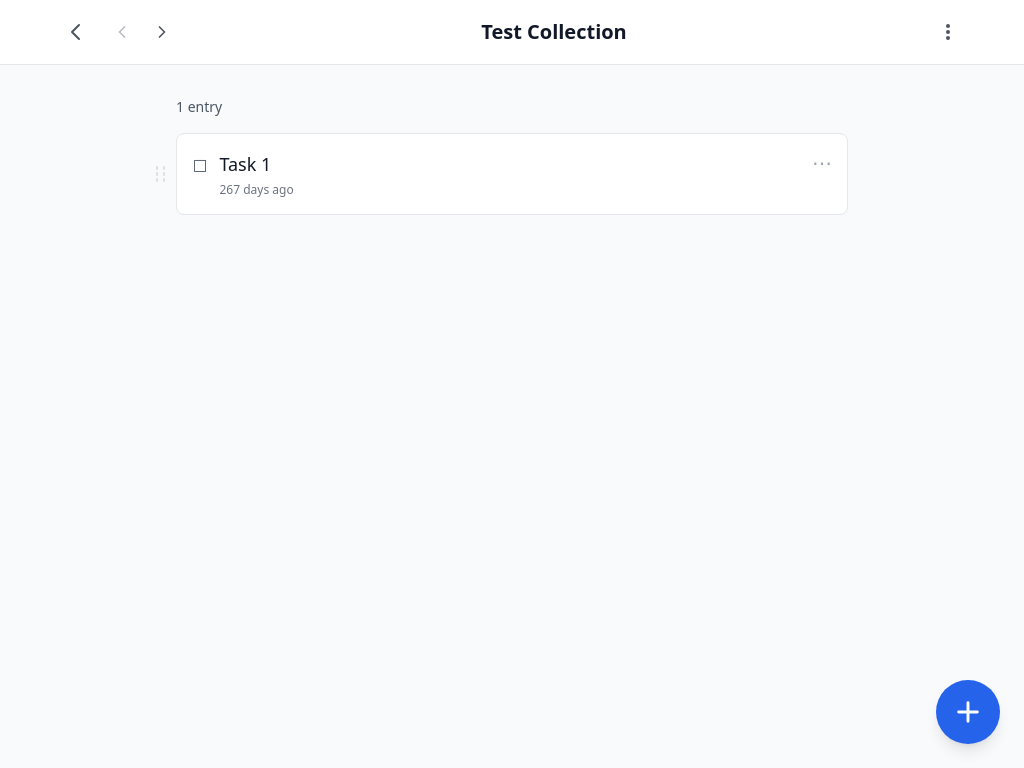
Test case: CollectionDetailView - Error Toast › should show an error toast when bulk migration fails
Expected: the link "Test Collection" is shown, [481,18,627,45]
// Enter selection mode via menu
Click the button named "collection menu". click: (948, 32)
box: [928,12,968,52]
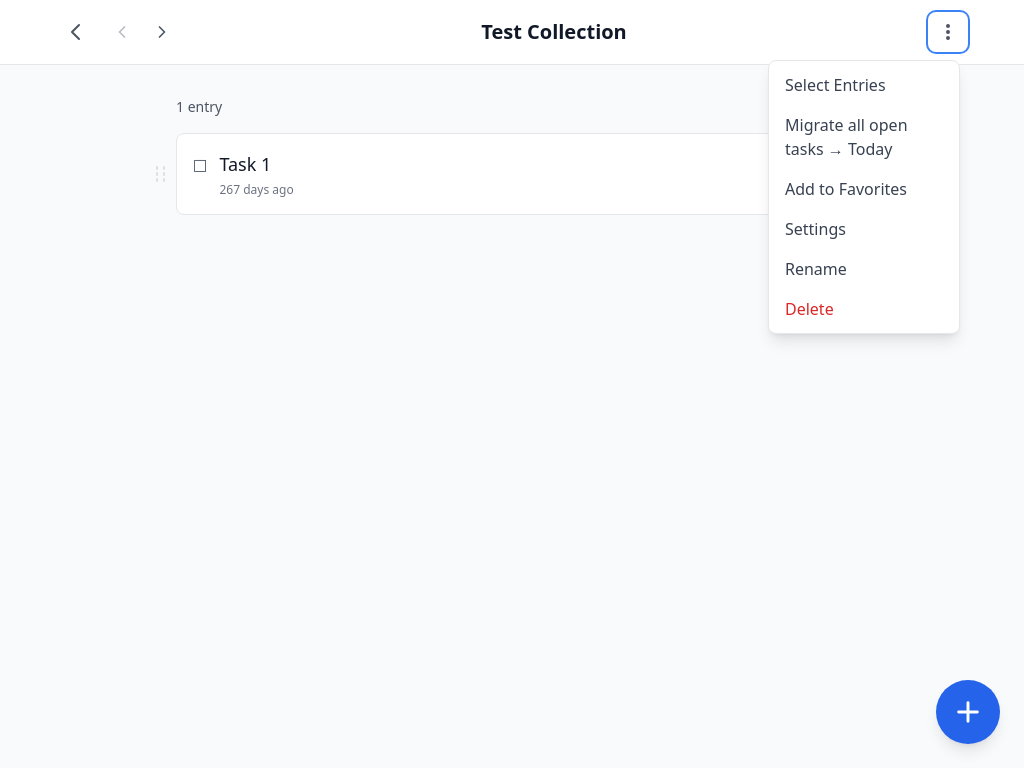
Click the button "Select Entries". click: (864, 85)
box: [769,65,959,105]
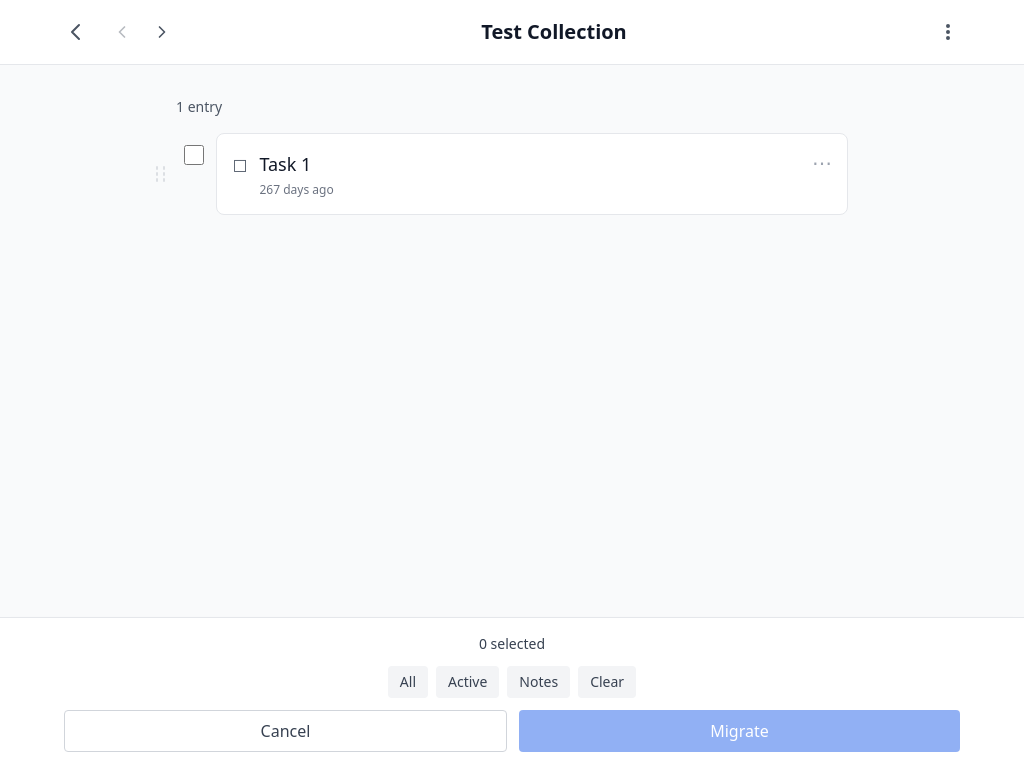
// Select all entries
Click the button "All". click: (408, 682)
box: [388,666,428,698]
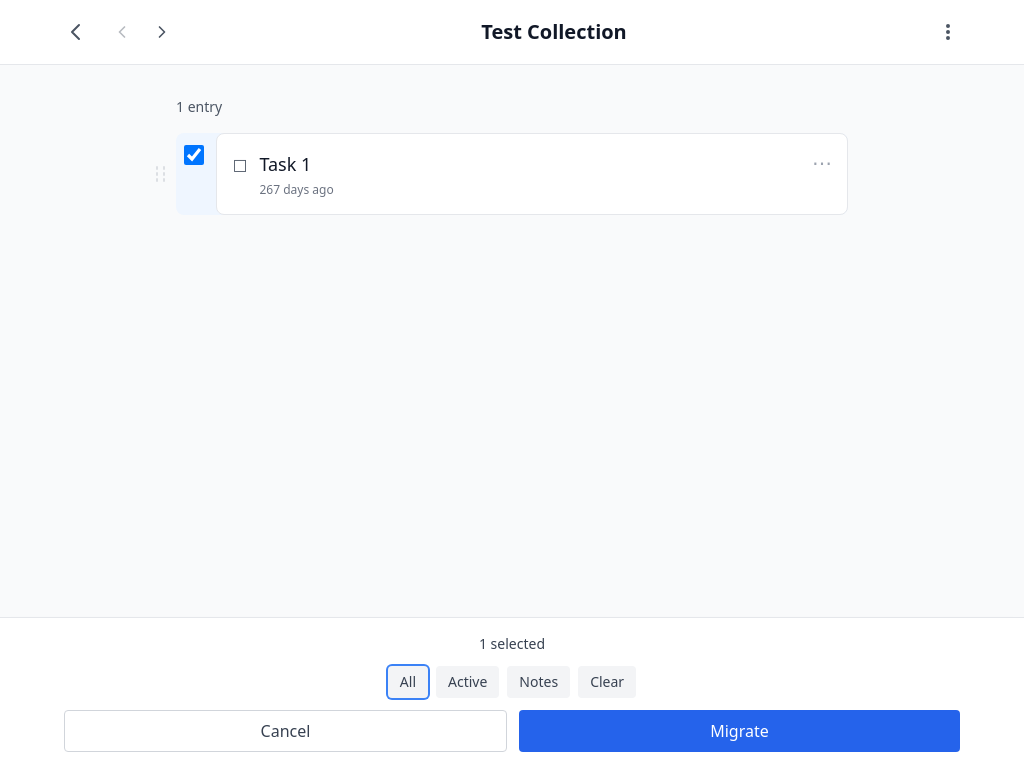
Now the text "1 selected" is shown, box [479,634,545,653]
// Open bulk migrate modal
Click the button "Migrate". click: (740, 731)
box: [519,710,960,752]
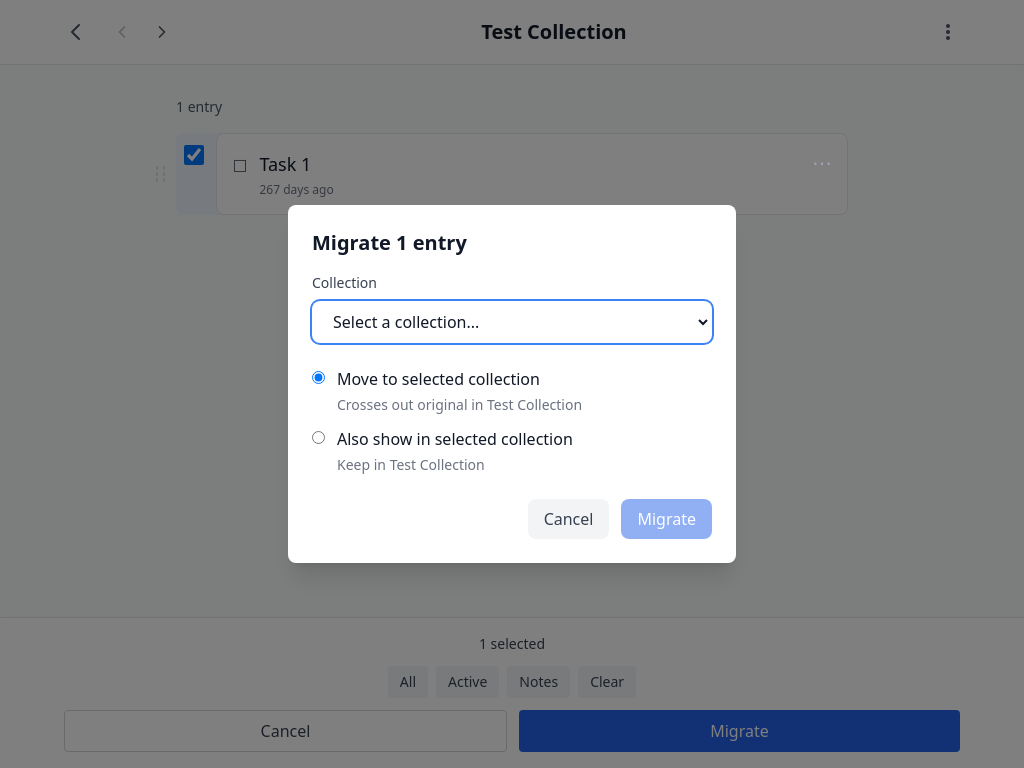
Now the heading "Migrate 1 entry" is shown, box [312,229,467,256]
// Select the target collection and submit to trigger the failure path
Select "Another Collection" in the dropdown labelled "Collection". click: (512, 322)
box: [312,301,712,343]
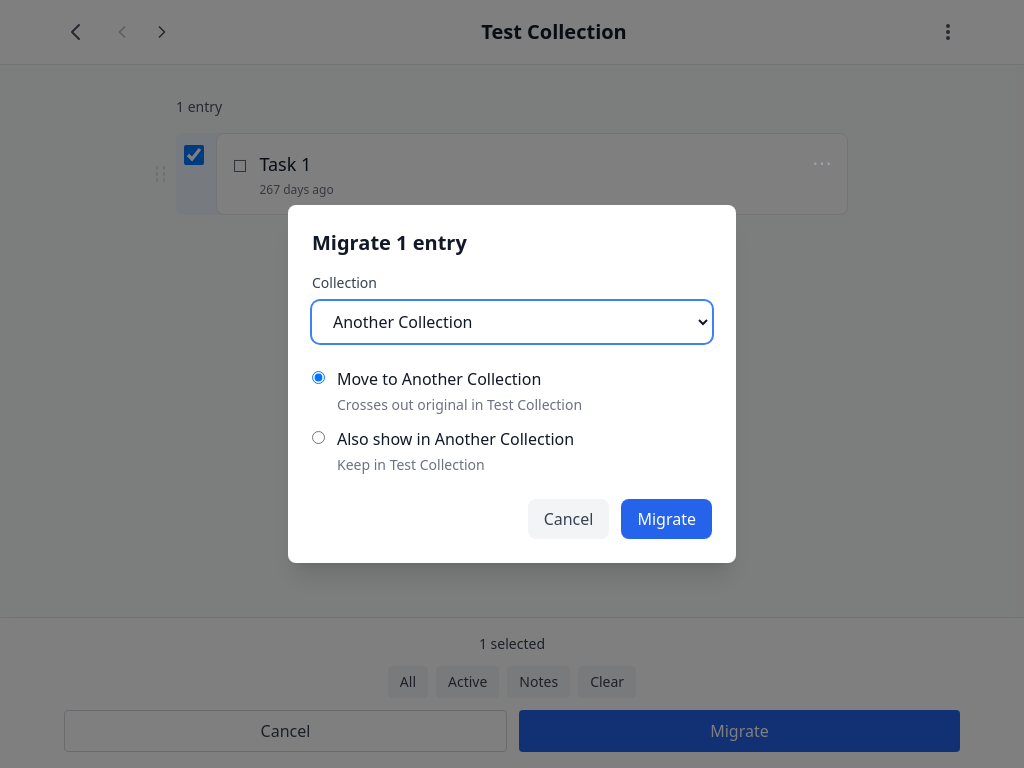
Click the button "Migrate". click: (667, 519)
box: [622,499,712,539]
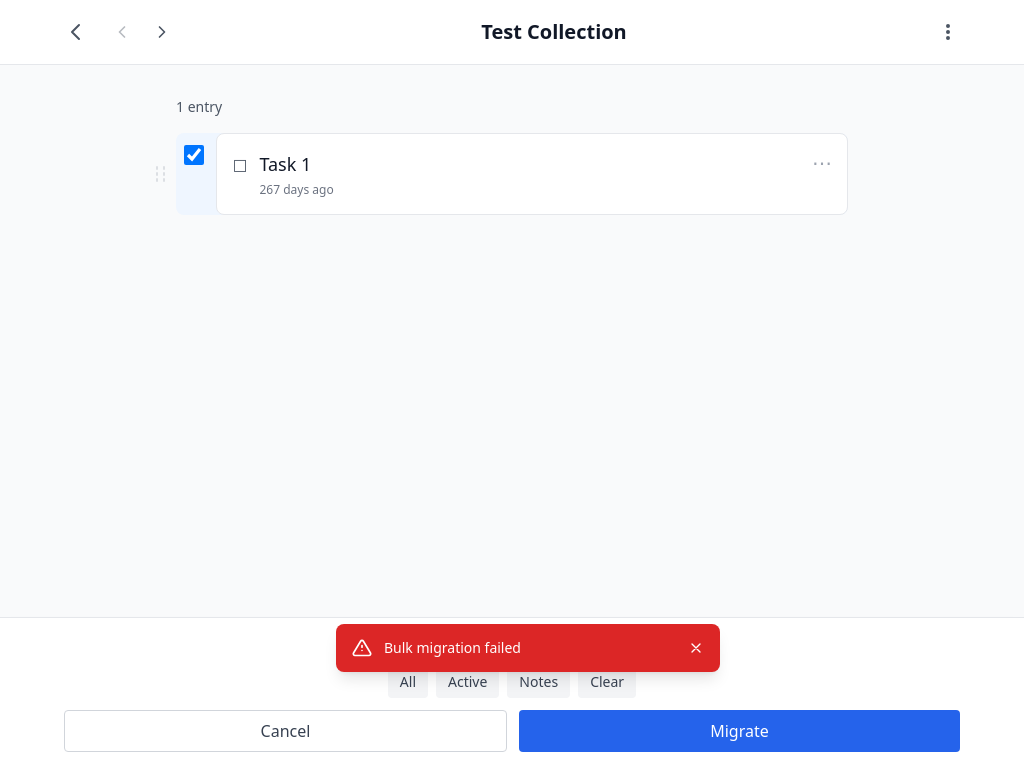
Now the message "Bulk migration failed" is shown, box [336,624,720,672]
Now the message reads "Bulk migration failed", box [384,638,521,657]
